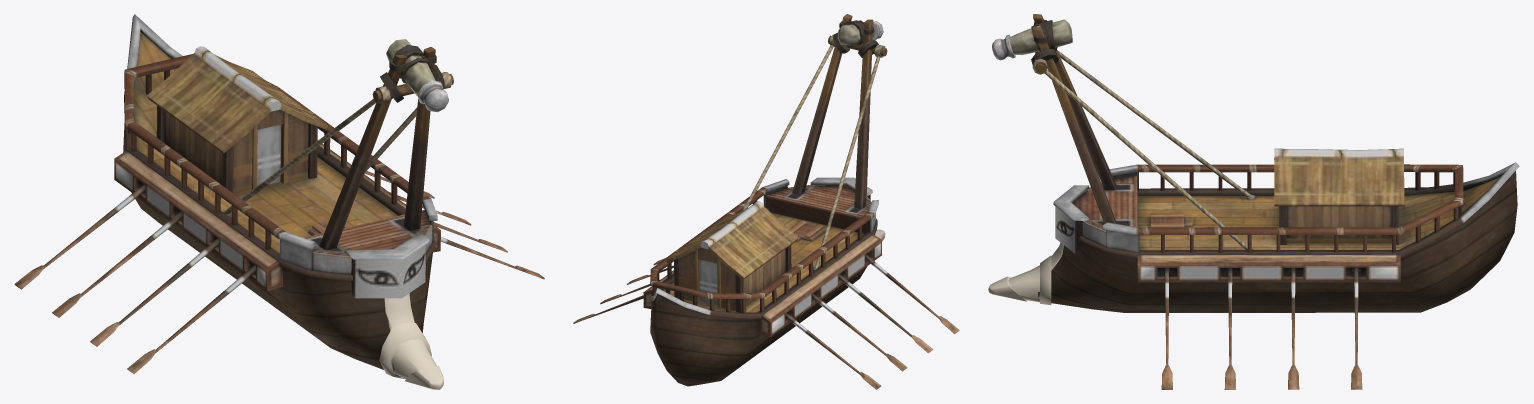
File: 251-pentekonter.glb
The picture shows the model from 3 angles, left to right: view 1: azimuth 30°, elevation 25°; view 2: azimuth 150°, elevation 25°; view 3: azimuth 270°, elevation 25°; orthographic projection. The views are drawn at different scales.
Bounding box in the file's own units: 4.2 × 3.27 × 5.41.
Materials: 3 (2 with a texture image).
